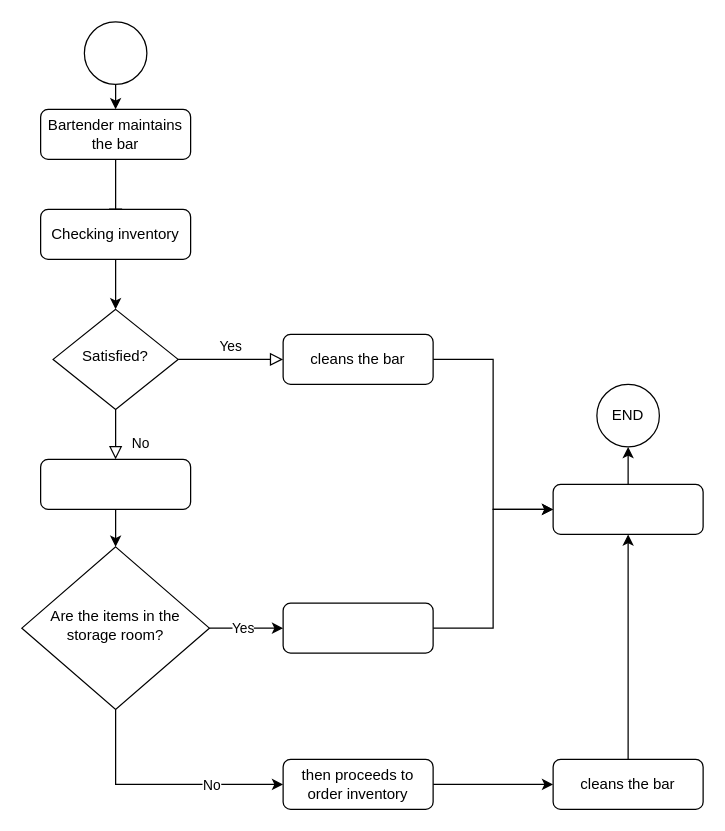
This 725x831 diagram has some shape labels left out. The centre of each missing label's shape, as x and y in pixels:
"ends shift" goes at pixel 627 508.
"refills & cleans the bar" goes at pixel 357 627.
"START" goes at pixel 115 52.
"writes down what is needed" goes at pixel 115 483.
